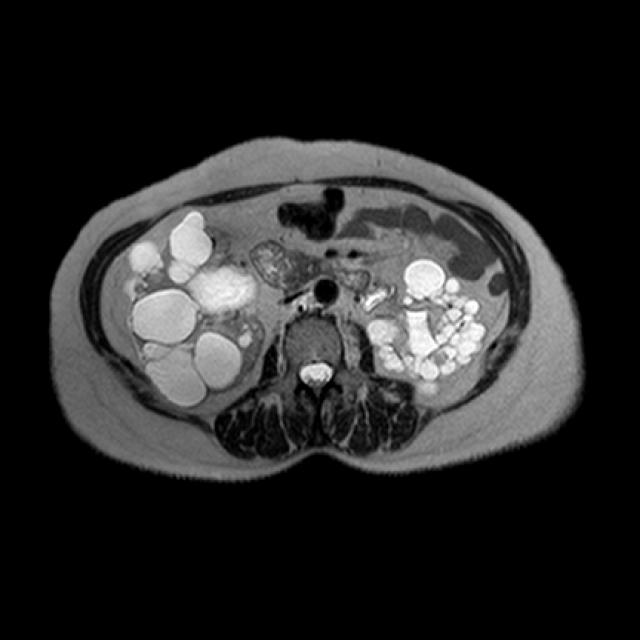sag: (119, 210, 267, 409)
sol: (366, 257, 490, 399)
